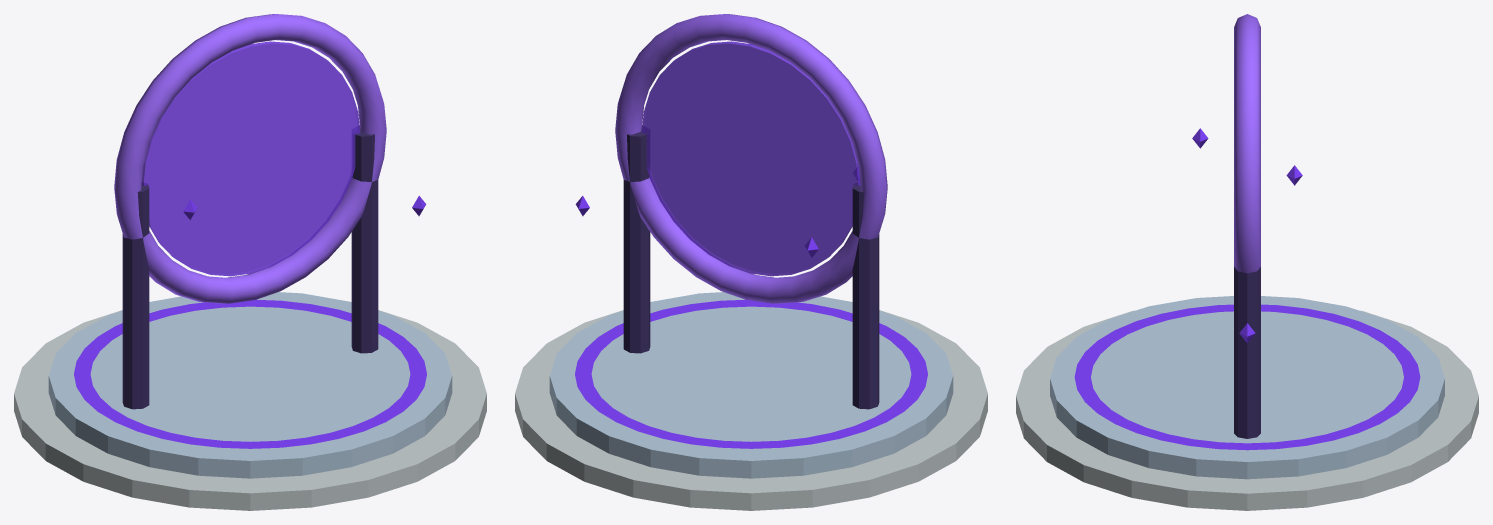
Rendered from warp.fbx.
The picture shows the model from 3 angles, left to right: view 1: azimuth 30°, elevation 25°; view 2: azimuth 150°, elevation 25°; view 3: azimuth 270°, elevation 25°; orthographic projection. The views are drawn at different scales.
Visible parts, largest first — view 1: warp; view 2: warp; view 3: warp.
Part boxes in pixels (left/top/right/bottom): warp: left=14, top=14, right=486, bottom=510; warp: left=515, top=14, right=987, bottom=510; warp: left=1016, top=14, right=1478, bottom=510.
Size of the model in its own units: 3.4 by 3.12 by 3.4.
